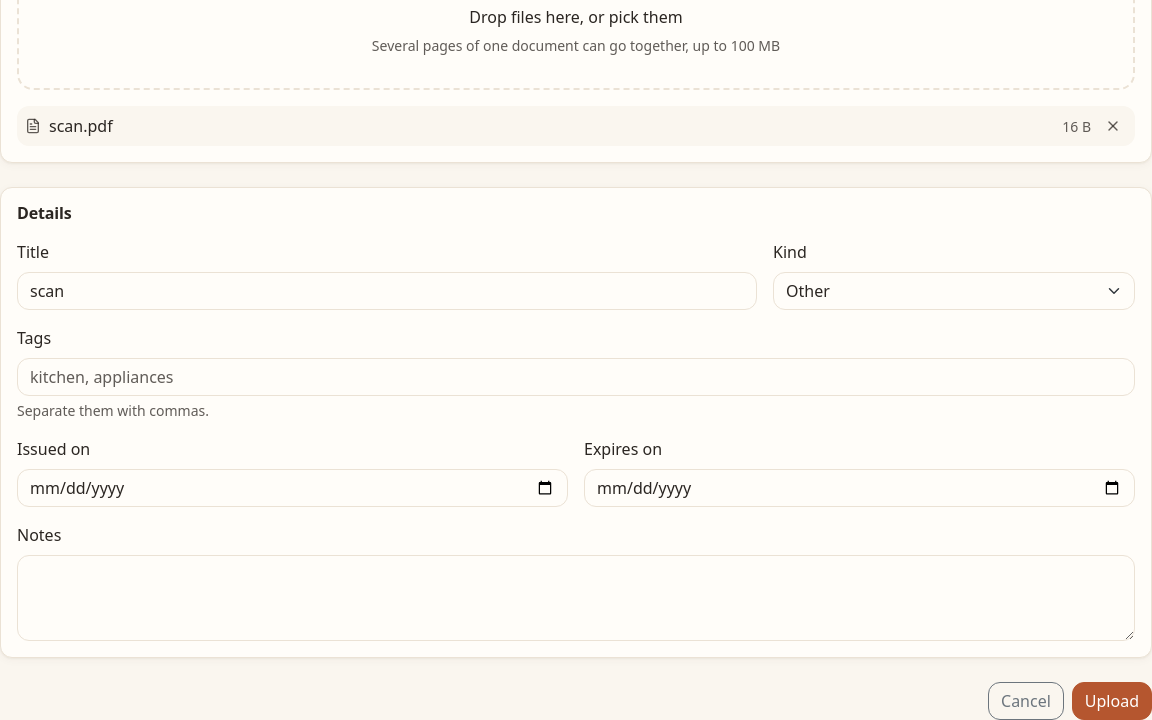
Test case: DocumentUploadComponent › says so when the account can only read
(page scrolled)
Click the submit button at (1112,701), box [1072, 682, 1151, 719]
(page scrolled)
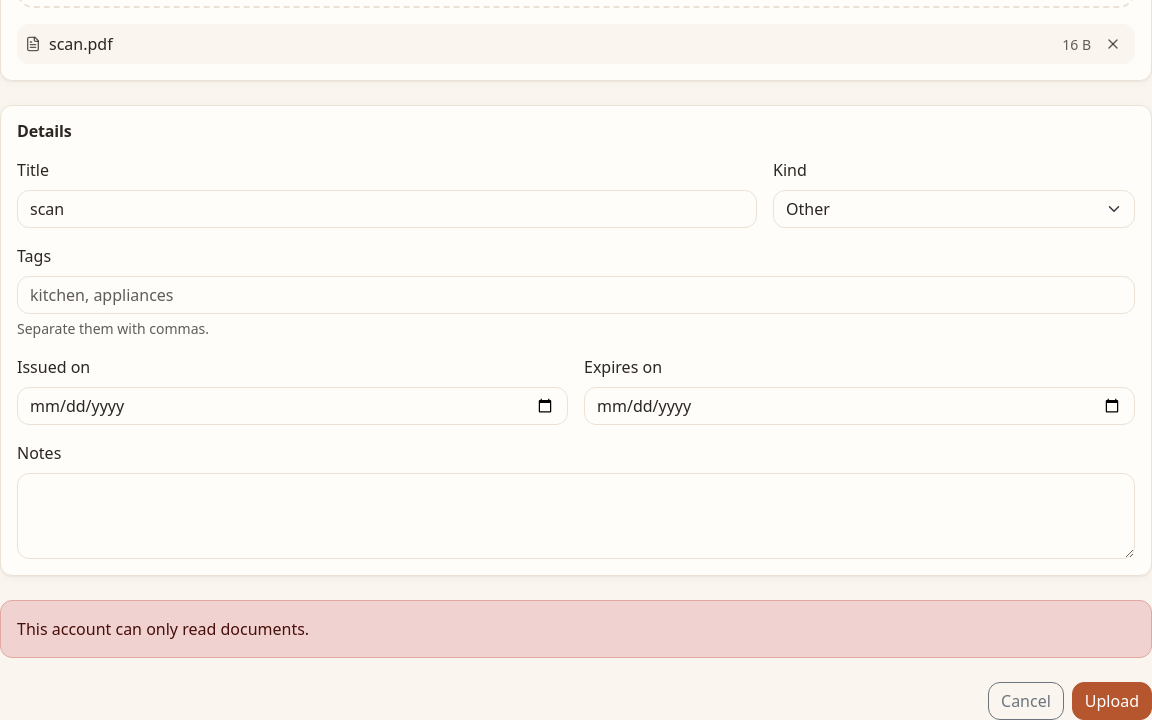
Expected: the message with test id "server-error" reads "This account can only read documents.", [17, 618, 309, 640]
